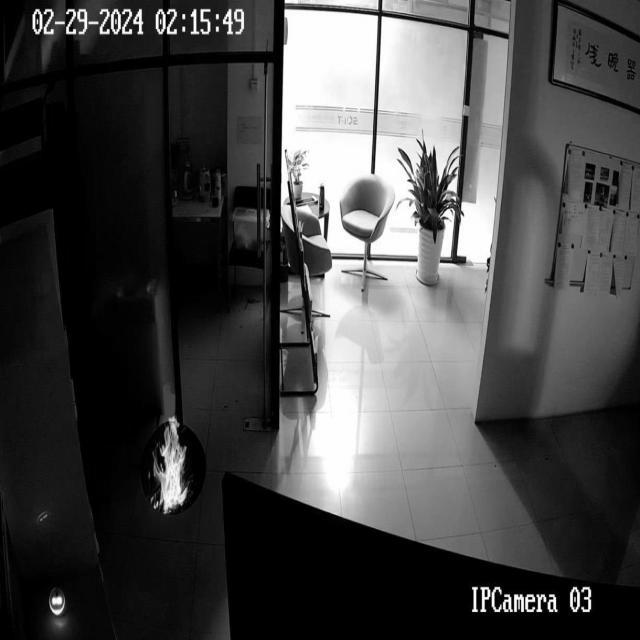smoke: (152, 412, 190, 519)
